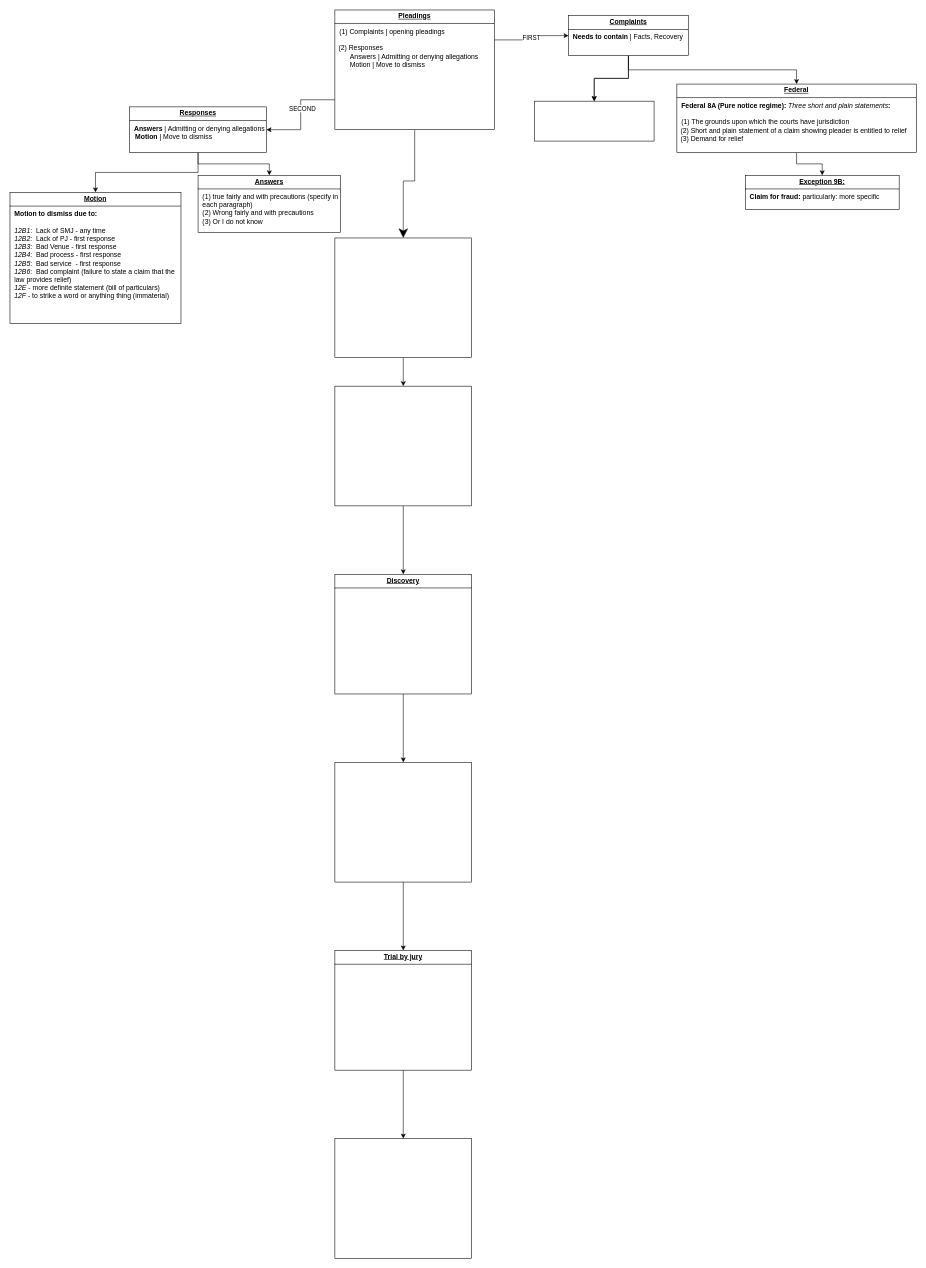
The diagram is 926 pixels wide and 1268 high, and some of its shapes have lost their labels. Each missing label, with the centre of its shape:
"Amendments" goes at point 403,297.
"CA Pure fact regime: Ultimate facts: Duty, breach, cause, injury" goes at point 594,121.
"Final & Appellate Review" goes at point 403,1198.
"Joinder" goes at point 403,446.
"Summary judgment" goes at point 403,822.
